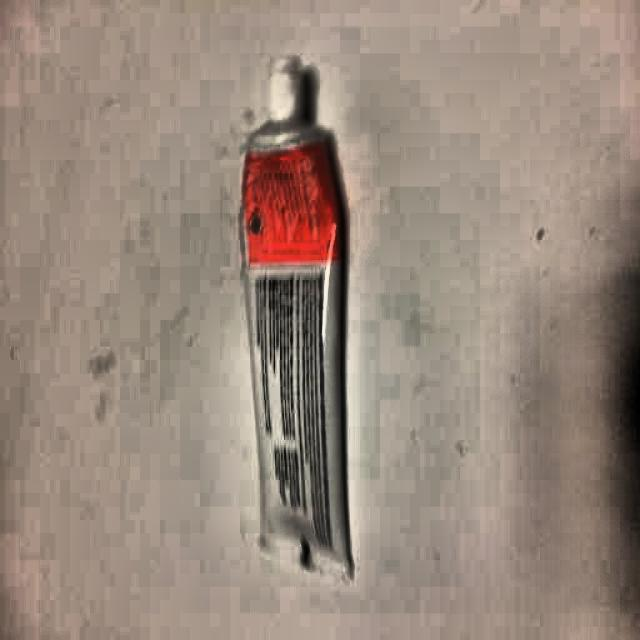trash: (238, 64, 358, 576)
